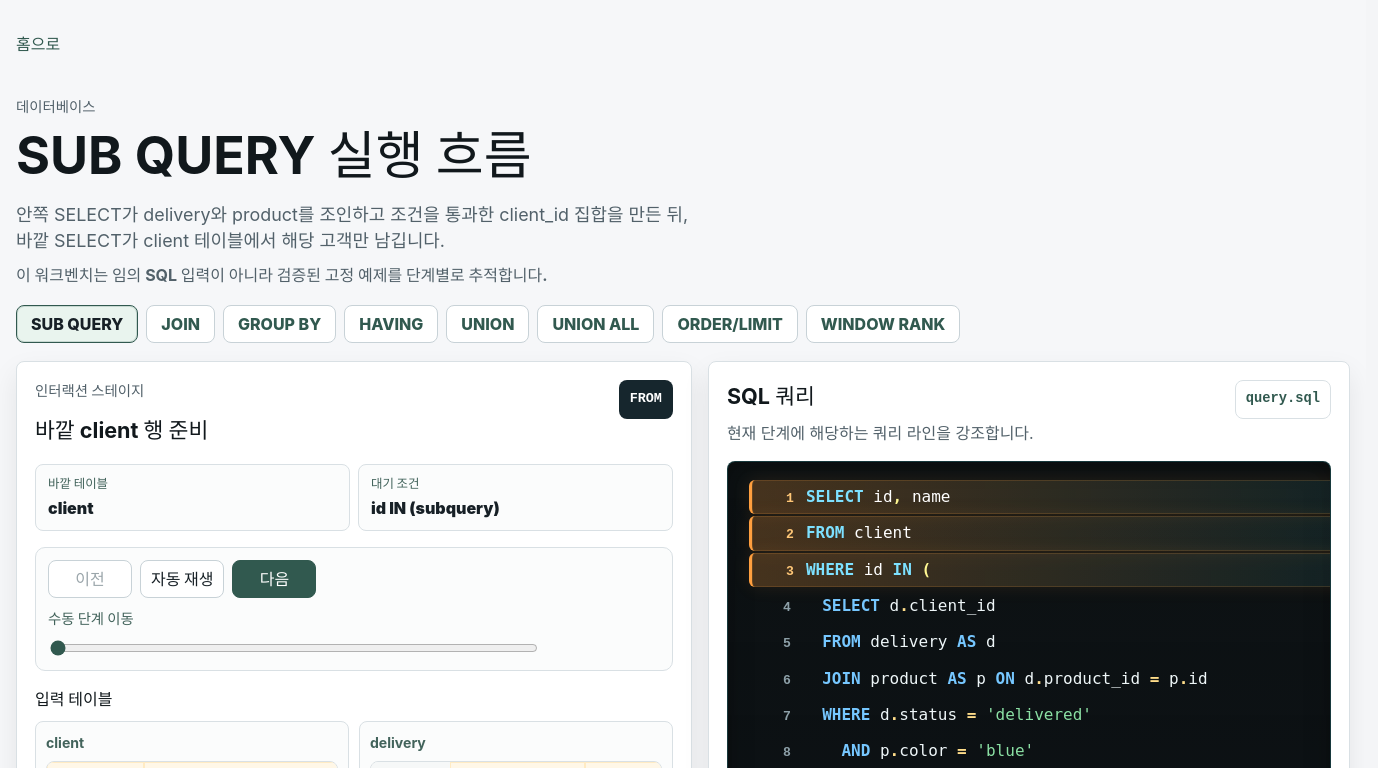
Test: DatabasePage › renders SQL token color classes and cell highlight classes
Check: the 1st text with class "sql-token-keyword" is shown, box [806,487,864,506]
Check: the 1st text with class "sql-token-identifier" is shown, box [873,487,893,506]
Click the button with aria-label "SQL 다음 단계": (274, 579) [232,560,316,598]
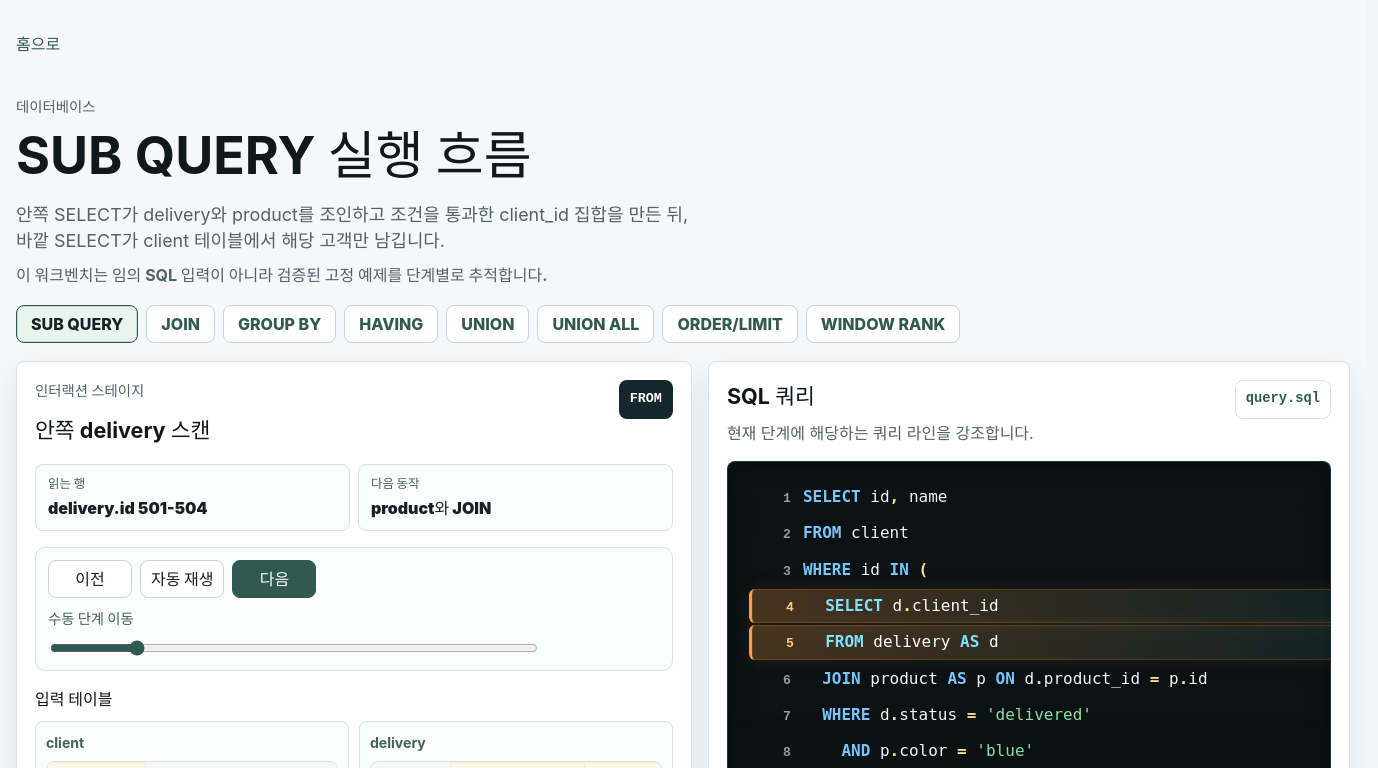
Click the button with aria-label "SQL 다음 단계": (274, 579) [232,560,316,598]
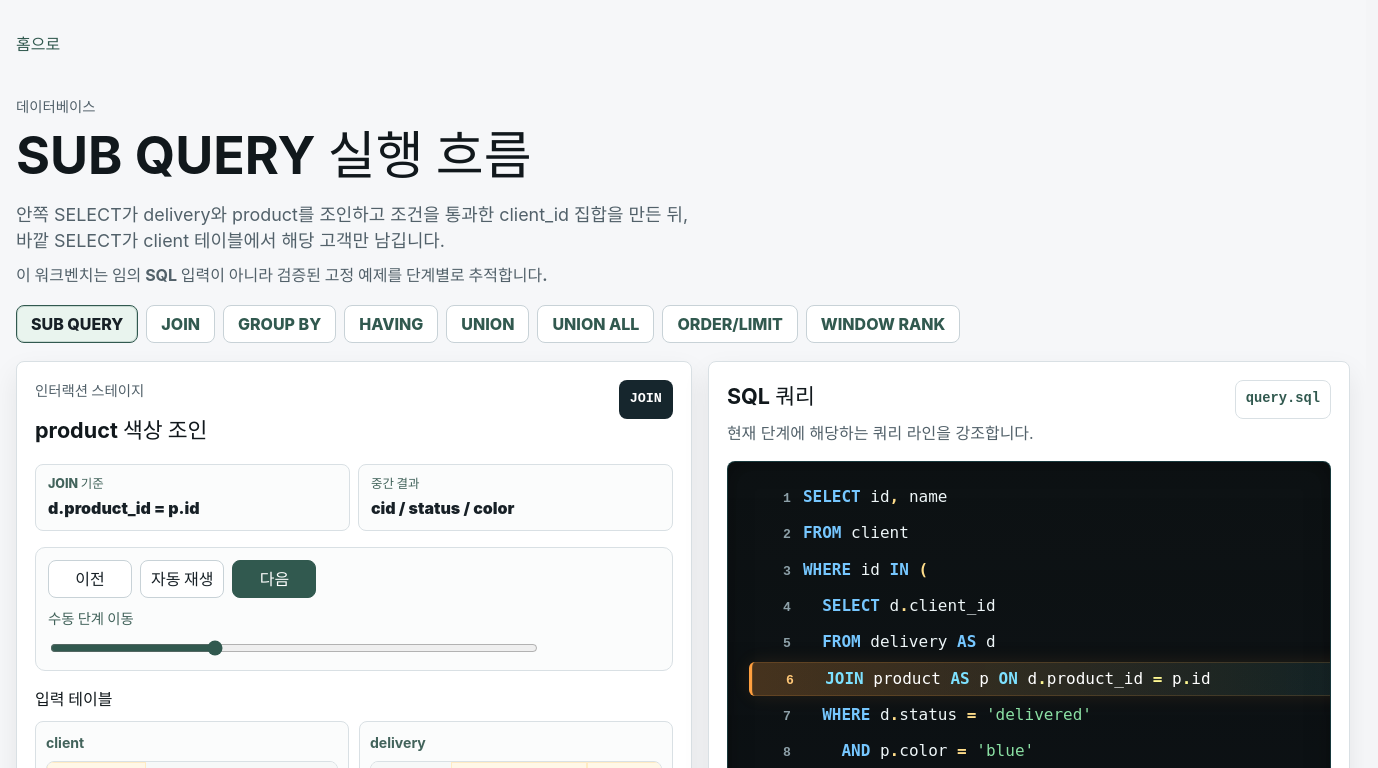
Click the button with aria-label "SQL 다음 단계": (274, 579) [232,560,316,598]
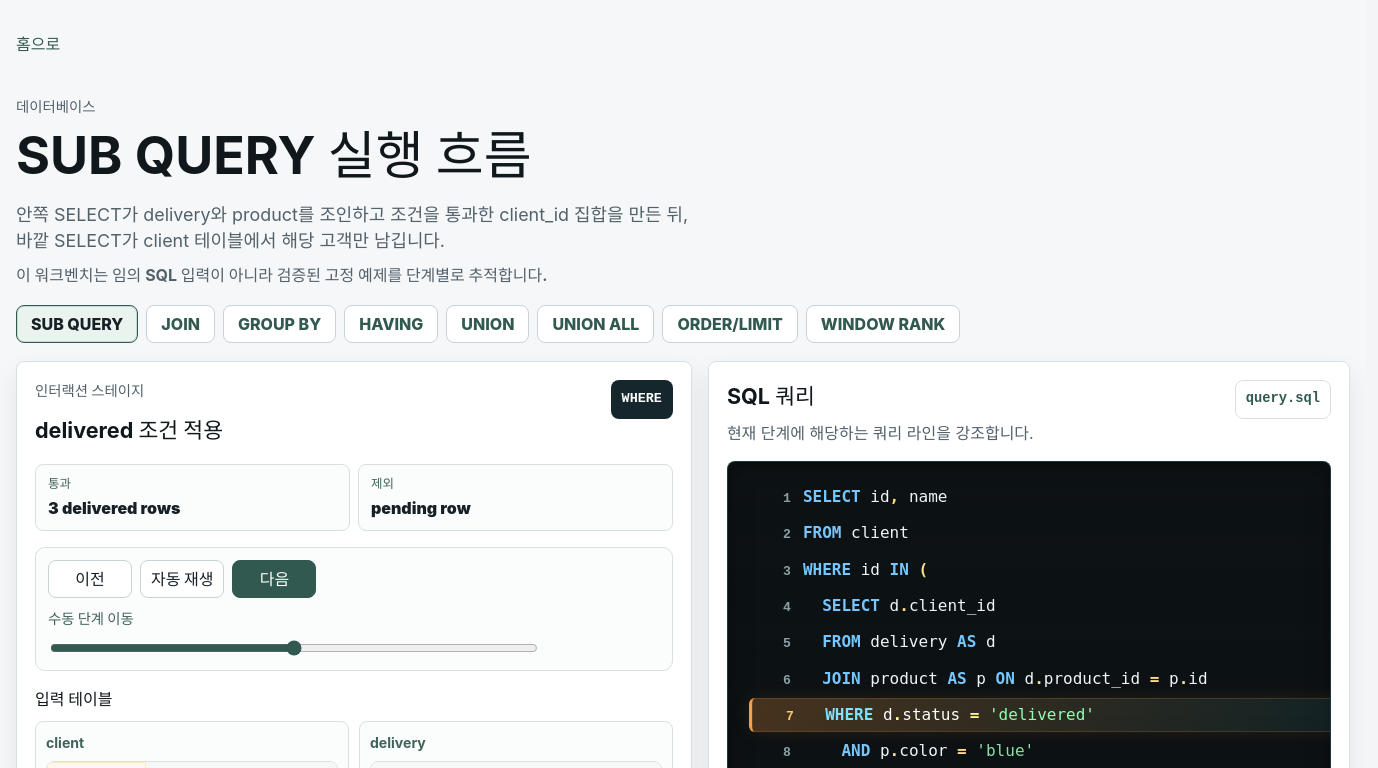
Click the button with aria-label "SQL 다음 단계": (274, 579) [232,560,316,598]
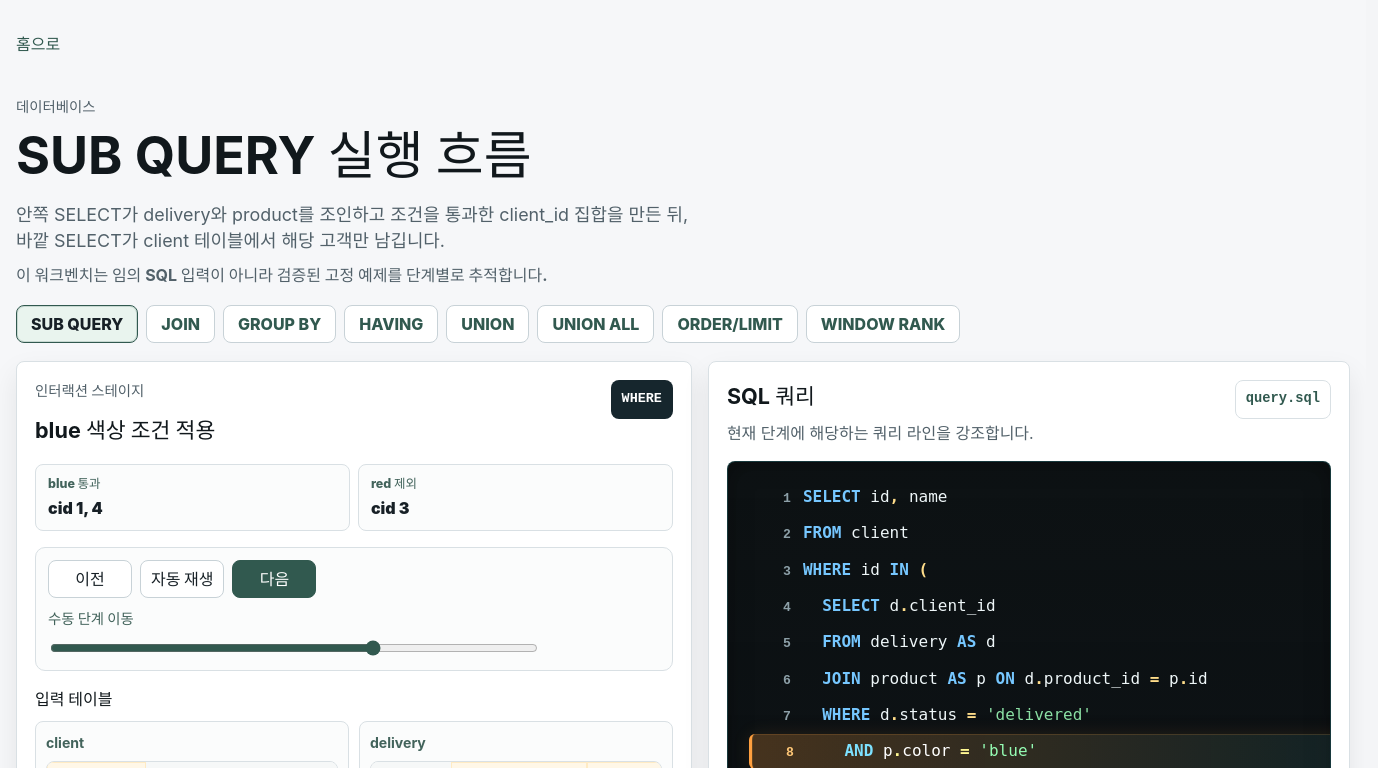
Click the tab "GROUP BY": (280, 324) [223,305,336,343]
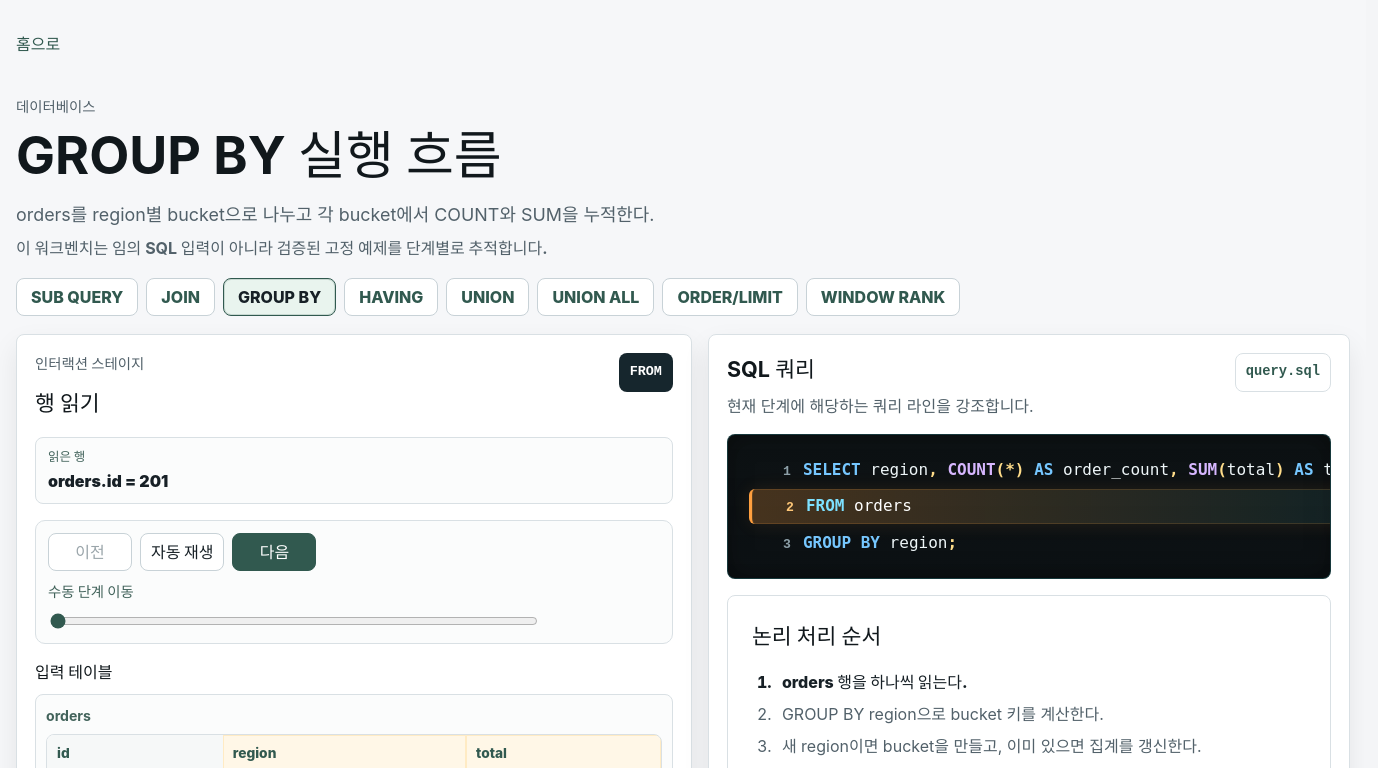
Check: the text "COUNT" is shown, box [947,460,996,479]
